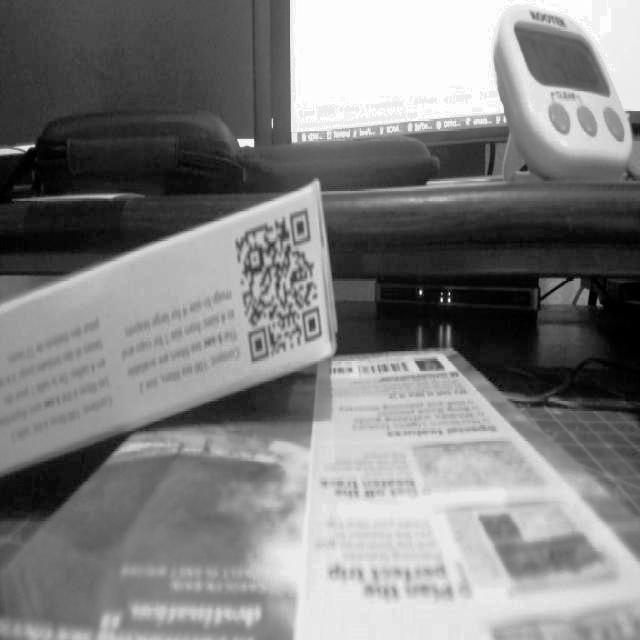qr_code: (223, 182, 335, 393)
